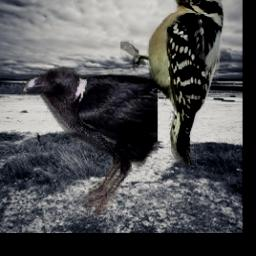Crow: (22, 67, 158, 217)
Woodpecker: (121, 0, 227, 166)
